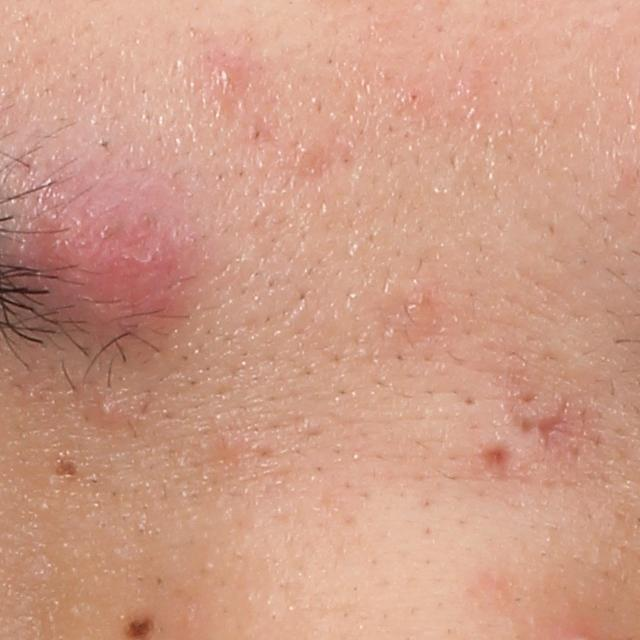atrophic_scar: (517, 390, 575, 452), (478, 440, 517, 475)
nevus: (51, 457, 84, 479)
nodule: (14, 148, 202, 333)
